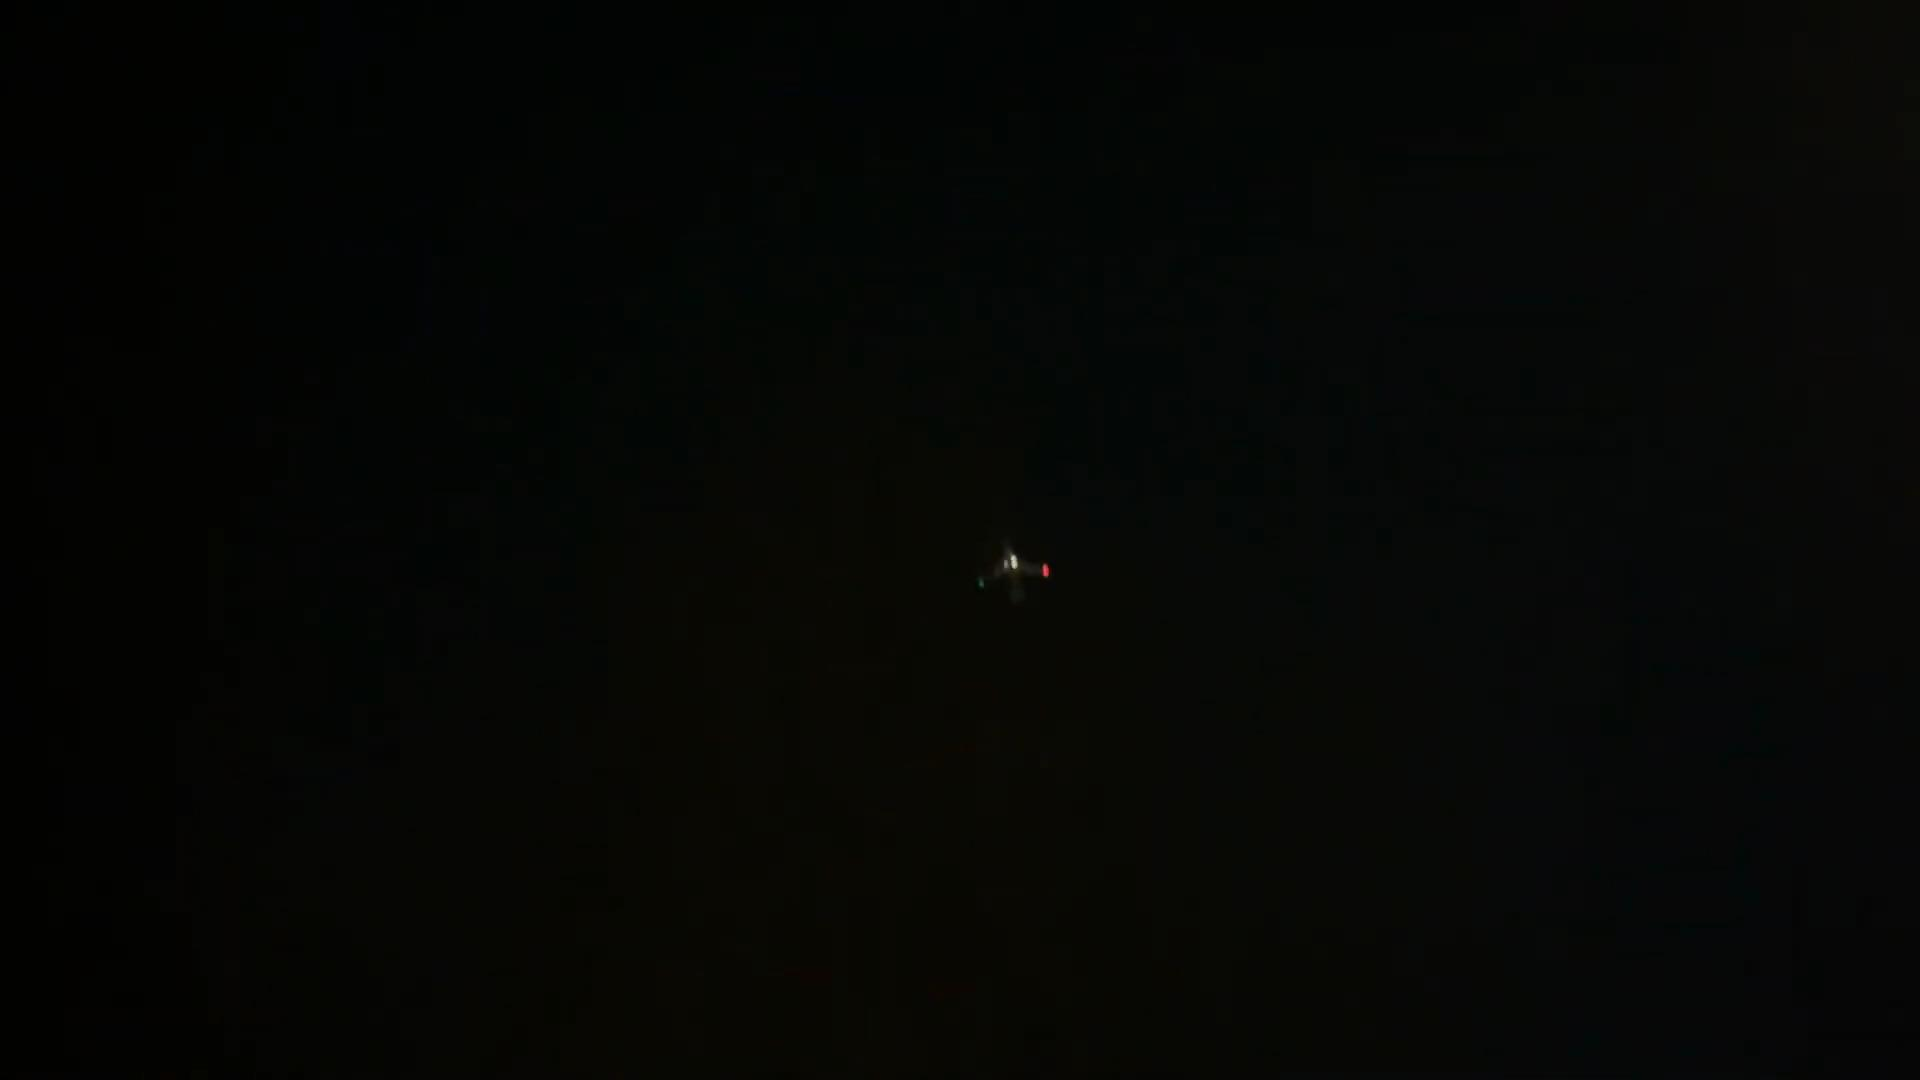Plane: (926, 527, 1100, 625)
